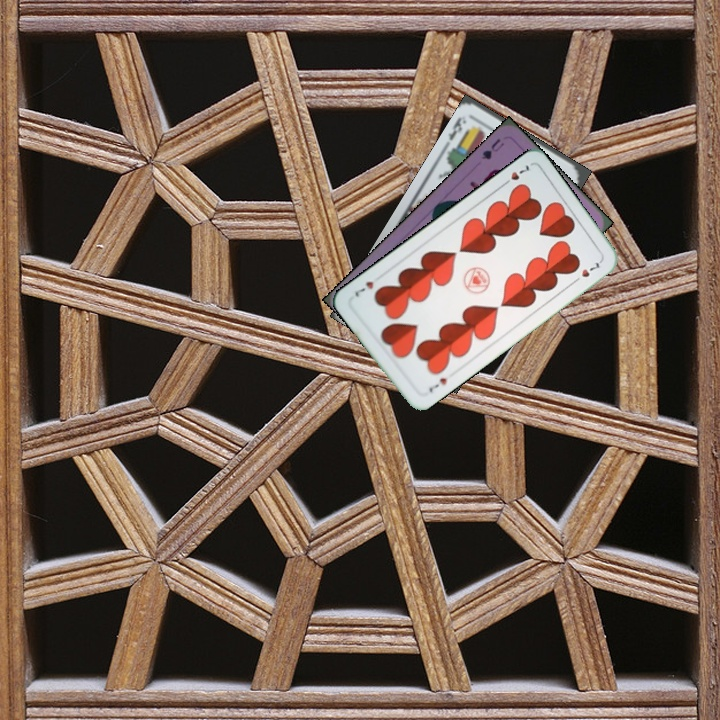EK: (444, 113, 465, 143)
GU: (477, 134, 507, 162)
H7: (498, 160, 532, 189), (424, 373, 449, 395)
